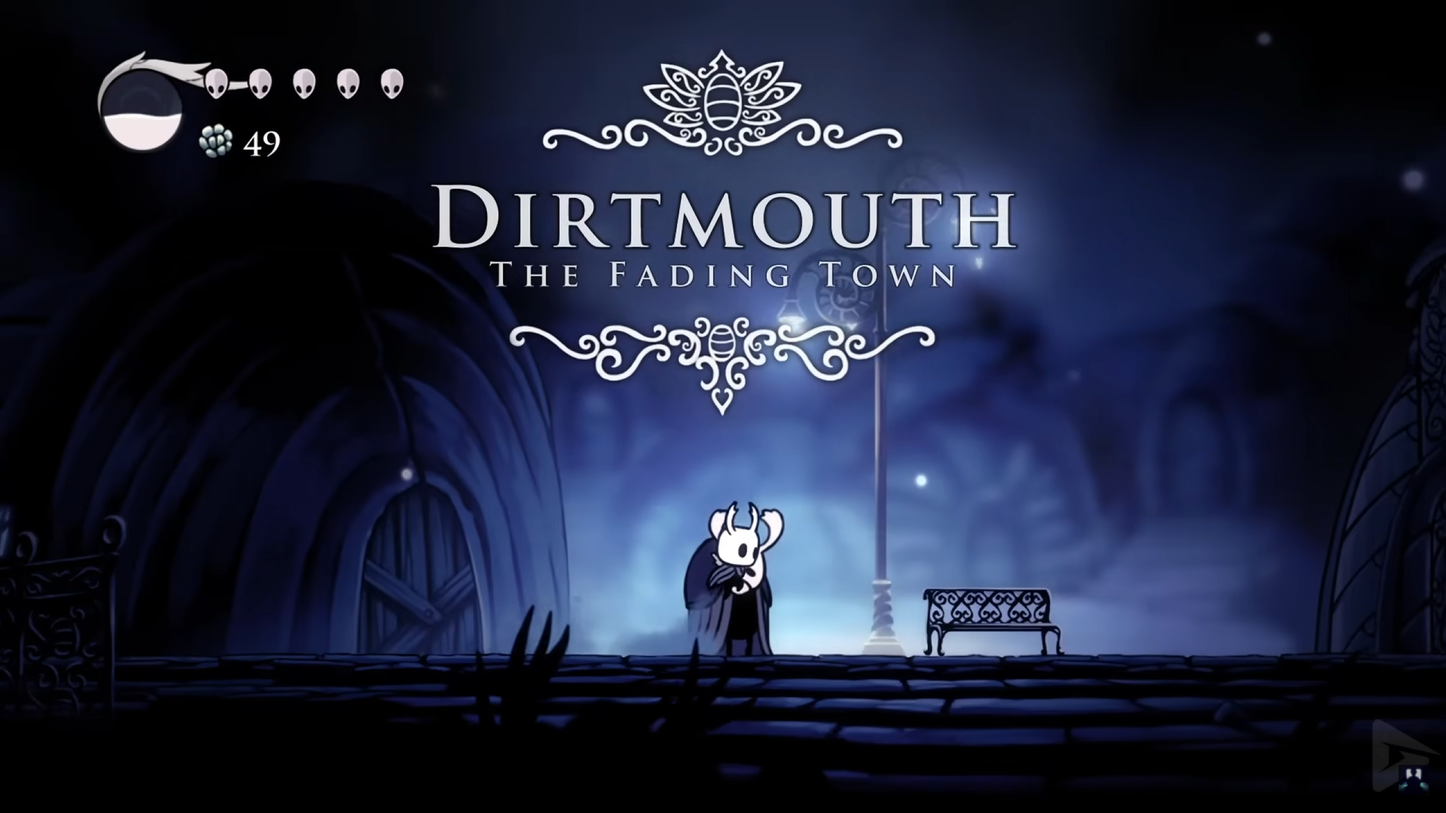HK: (700, 497, 778, 658)
